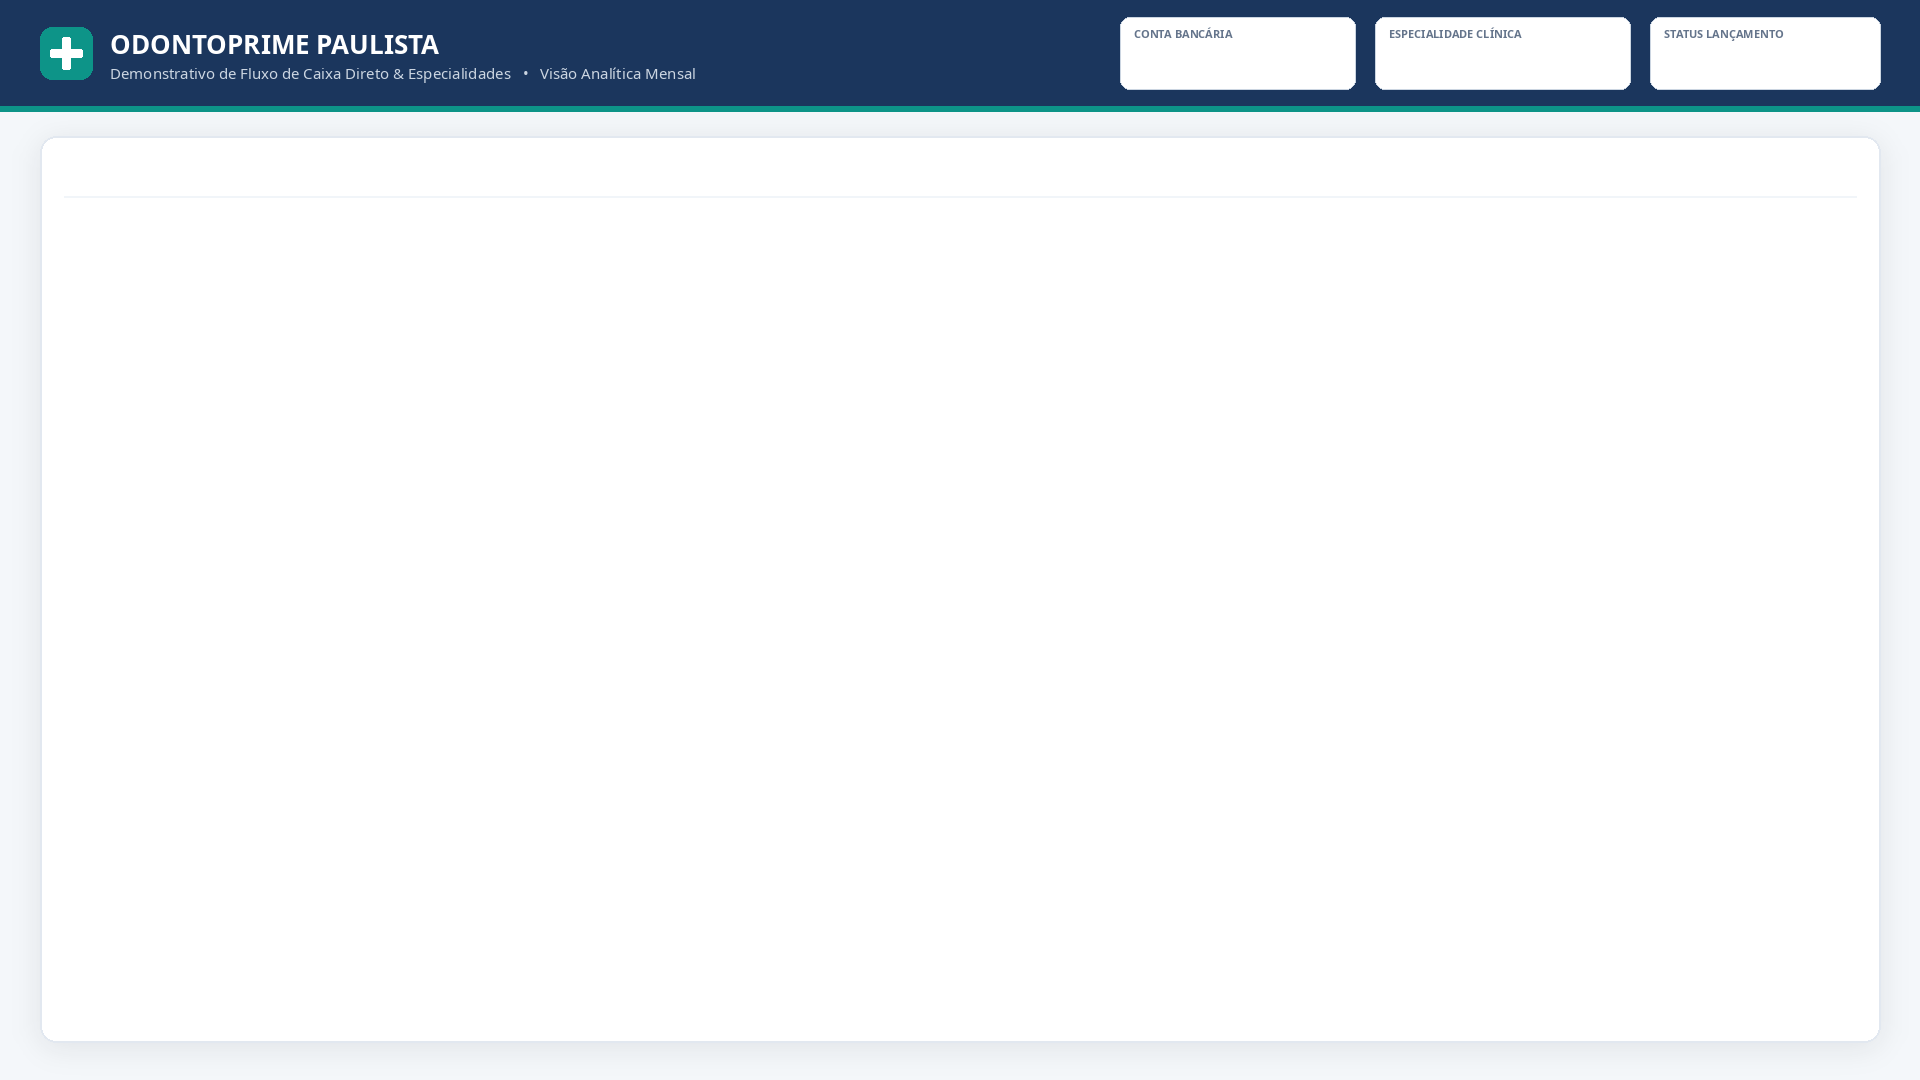

The page's visual inventory and layout, read from the dashboard file:
{"tool":"powerbi","page":{"name":"Matriz Analítica","canvas":[1920,1080],"ordinal":1},"visuals":[{"type":"actionButton","box":[0,1010,100,40],"z":0},{"type":"slicer","fields":{"Values":["dSaldoInicial.Banco"]},"box":[1130,46,222,36],"z":1000},{"type":"slicer","fields":{"Values":["dEspecialidades.Especialidade"]},"box":[1384,46,238,36],"z":2000},{"type":"slicer","fields":{"Values":["fLancamentos.Status"]},"box":[1658,46,216,36],"z":3000},{"type":"pivotTable","title":"Demonstrativo de Fluxo de Caixa Direto (Mensal por Especialidade)","fields":{"Columns":["dCalendario.Mes_Ano"],"Rows":["dPlanoContas.Grupo_Fluxo","dPlanoContas.Categoria","dPlanoContas.Subcategoria"],"Values":["_Medidas.Geração Líquida Caixa"]},"box":[42.5,142.5,1825,887.5],"z":4000}]}

Visuals, with their boxes in screenshot pixels (x1, y1, x2, y2), scaled from the page's 1920x1080 canvas onto the 1920x1080 screenshot:
actionButton: left=0, top=1010, right=100, bottom=1050
slicer - dSaldoInicial.Banco: left=1130, top=46, right=1352, bottom=82
slicer - dEspecialidades.Especialidade: left=1384, top=46, right=1622, bottom=82
slicer - fLancamentos.Status: left=1658, top=46, right=1874, bottom=82
"Demonstrativo de Fluxo de Caixa Direto (Mensal por Especialidade)" pivotTable: left=42, top=142, right=1868, bottom=1030
